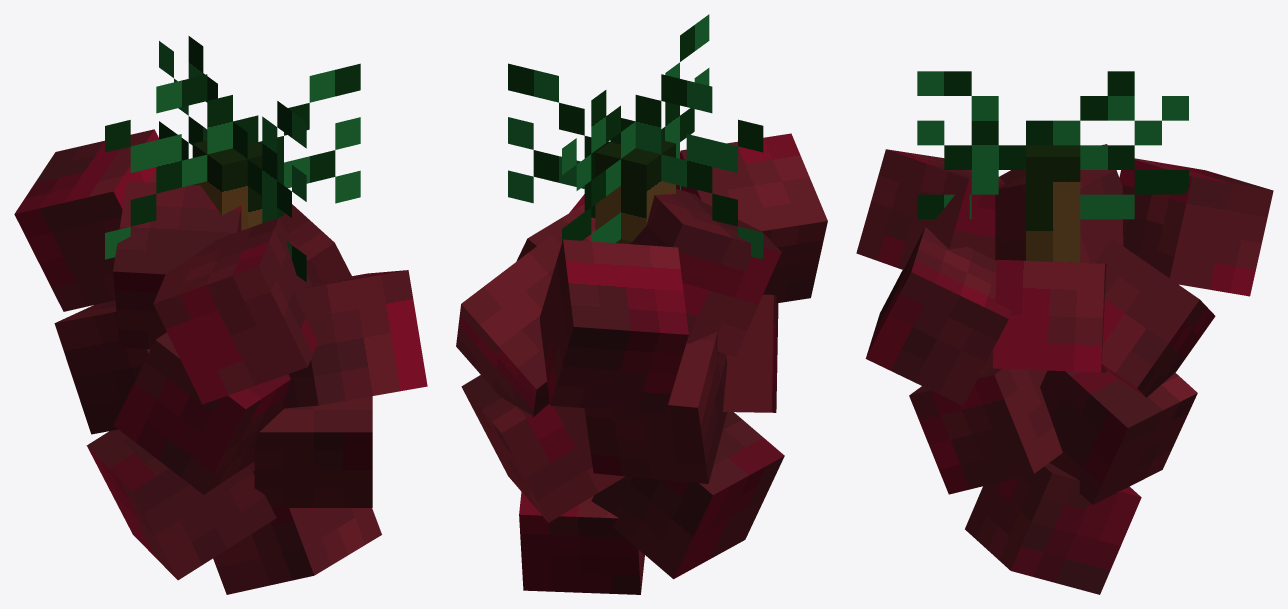
The model's file is Fruit.gltf.
3 renders of one model, left to right at view 1: azimuth 30°, elevation 25°; view 2: azimuth 150°, elevation 25°; view 3: azimuth 270°, elevation 25°, orthographic. The views are drawn at different scales.
Parts seen in each view (by area): view 1: cuboid (×11), plane (×2); view 2: cuboid (×11), plane (×2); view 3: cuboid (×10), plane.
Boxes of the visible parts, x1=… form: cuboid (×11): x1=14, y1=129, x2=427, y2=594; plane (×2): x1=105, y1=36, x2=360, y2=282; cuboid (×11): x1=456, y1=133, x2=827, y2=594; plane (×2): x1=508, y1=14, x2=763, y2=259; cuboid (×10): x1=856, y1=144, x2=1273, y2=594; plane: x1=917, y1=71, x2=1188, y2=219.
Bounding box in the file's own units: 0.3305 × 0.6143 × 0.4796.
1 material, 1 textured.
